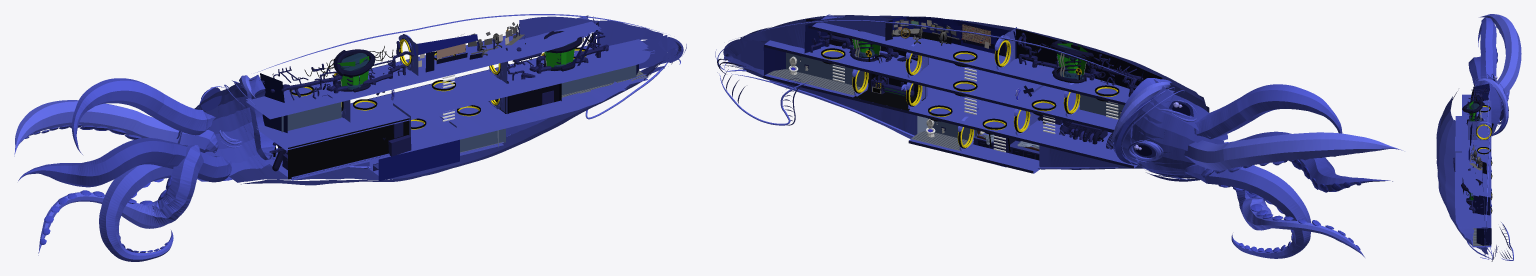
File: Ship 1.fbx
The picture shows the model from 3 angles, left to right: view 1: azimuth 30°, elevation 25°; view 2: azimuth 150°, elevation 25°; view 3: azimuth 270°, elevation 25°; orthographic projection. The views are drawn at different scales.
Visible parts, largest first — view 1: Lula, Rooms; view 2: Lula, Rooms; view 3: Lula, Rooms.
Part boxes in pixels (x1=…): Lula: x1=14, y1=14, x2=686, y2=261; Rooms: x1=260, y1=16, x2=647, y2=180; Lula: x1=715, y1=14, x2=1402, y2=258; Rooms: x1=763, y1=16, x2=1162, y2=160; Lula: x1=1436, y1=14, x2=1521, y2=261; Rooms: x1=1453, y1=83, x2=1493, y2=245.
Size of the model in its own units: 6.23 by 1.59 by 1.11.
